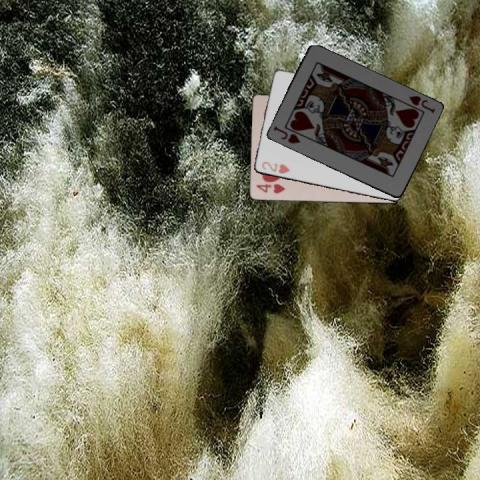2h: (259, 159, 291, 175)
4h: (253, 182, 286, 195)
Jh: (401, 92, 437, 114), (270, 123, 302, 145)
